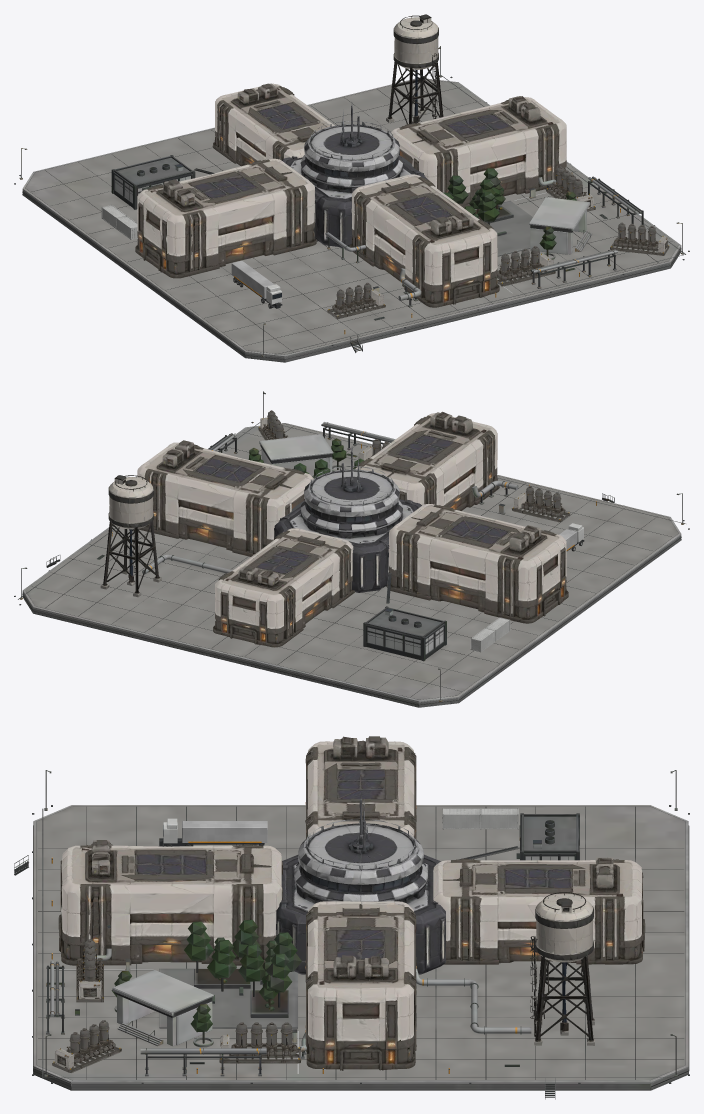
File: infrastructure.lite.glb
3 views of the same model, one above another, from view 1: azimuth 30°, elevation 25°; view 2: azimuth 150°, elevation 25°; view 3: azimuth 270°, elevation 25° (orthographic). The views are drawn at different scales.
Parts seen in each view (by area): view 1: hull, parts_colony-adminWing, parts_colony-hubDrum, parts_colony-vesselSkid, parts_colony-waterTower, parts_yard-truck, parts_container; view 2: hull, parts_colony-adminWing, parts_colony-hubDrum, parts_colony-waterTower, parts_colony-vesselSkid, parts_container; view 3: hull, parts_colony-adminWing, parts_colony-hubDrum, parts_colony-waterTower, parts_colony-vesselSkid, parts_yard-truck, parts_container.
Part boxes in pixels (x1,y1,x2,y2): hull: (14,46,689,362); parts_colony-adminWing: (135,83,566,307); parts_colony-hubDrum: (281,102,427,247); parts_colony-vesselSkid: (327,166,669,319); parts_colony-waterTower: (386,14,443,124); parts_yard-truck: (231,260,282,308); parts_container: (101,205,137,239); hull: (14,391,689,707); parts_colony-adminWing: (137,411,568,647); parts_colony-hubDrum: (274,446,421,592); parts_colony-waterTower: (100,475,161,597); parts_colony-vesselSkid: (258,410,570,522); parts_container: (470,617,510,652); hull: (14,770,689,1099); parts_colony-adminWing: (58,736,645,1070); parts_colony-hubDrum: (276,792,445,974); parts_colony-waterTower: (530,892,594,1045); parts_colony-vesselSkid: (52,843,301,1072); parts_yard-truck: (159,818,267,846); parts_container: (442,808,518,829).
Bounding box in the file's own units: 107 × 28.36 × 107.
Materials: 9 (9 with a texture image).
